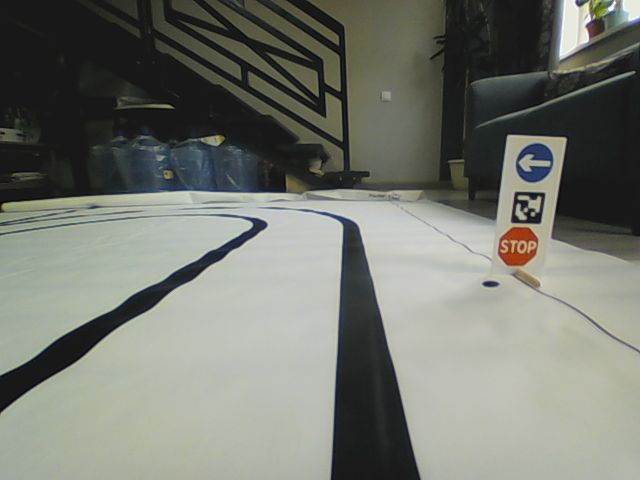Stop: (496, 226, 539, 265)
